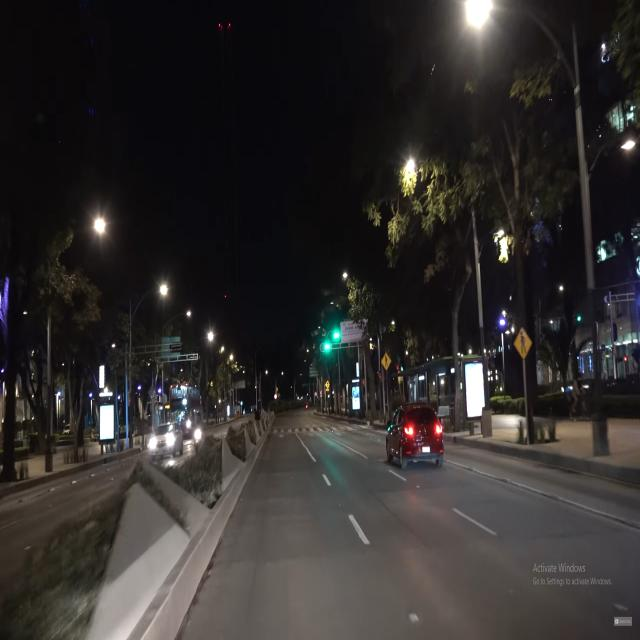headlights: (144, 432, 181, 456)
